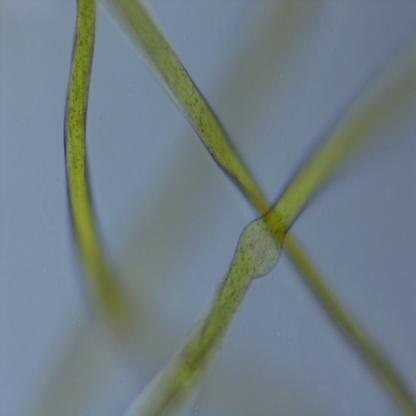Microfibre: (113, 0, 416, 414), (131, 59, 416, 415), (62, 0, 155, 359)
